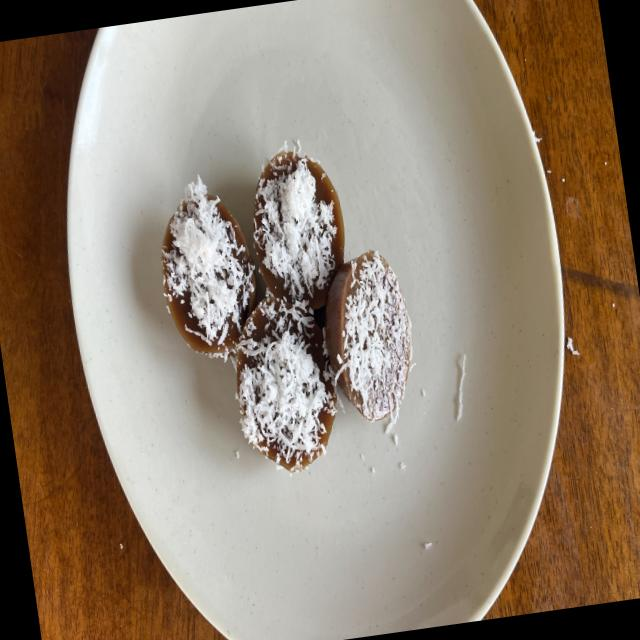Kuih lompang: (236, 293, 337, 472), (162, 178, 257, 360), (325, 250, 412, 432), (254, 147, 345, 310)
